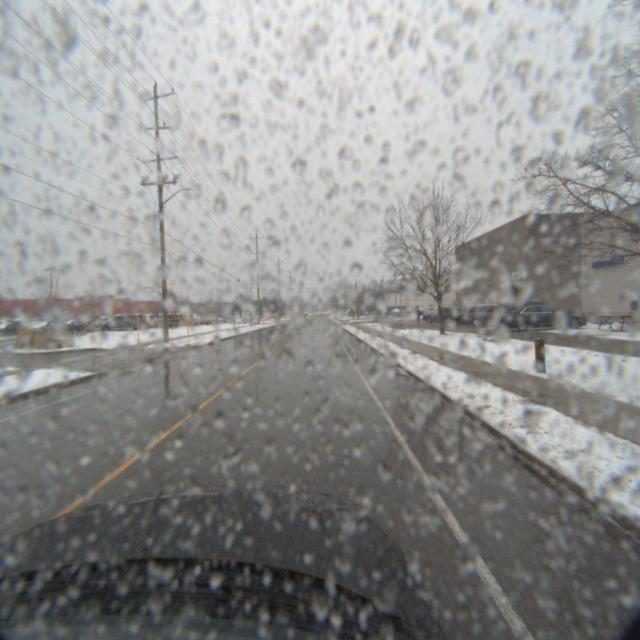Car: (497, 302, 582, 334), (488, 299, 562, 330), (458, 304, 516, 330), (97, 314, 144, 335)
